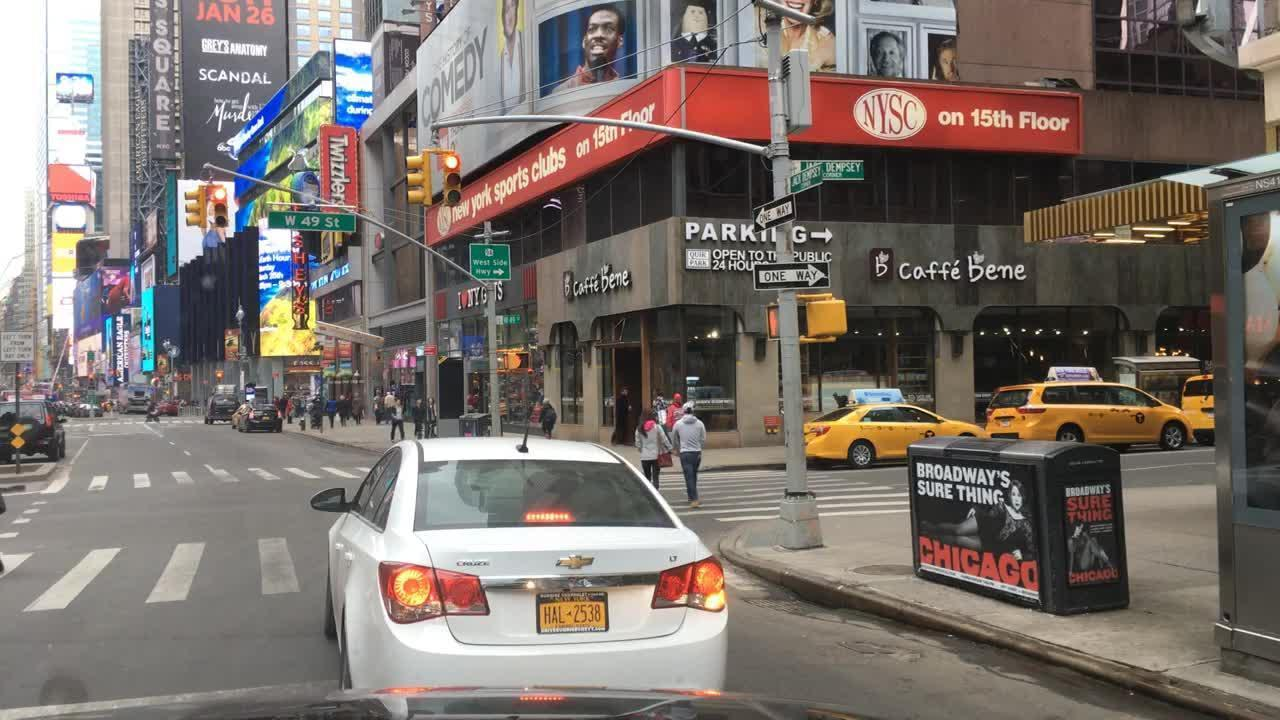chevrolet: (555, 545, 601, 582)
